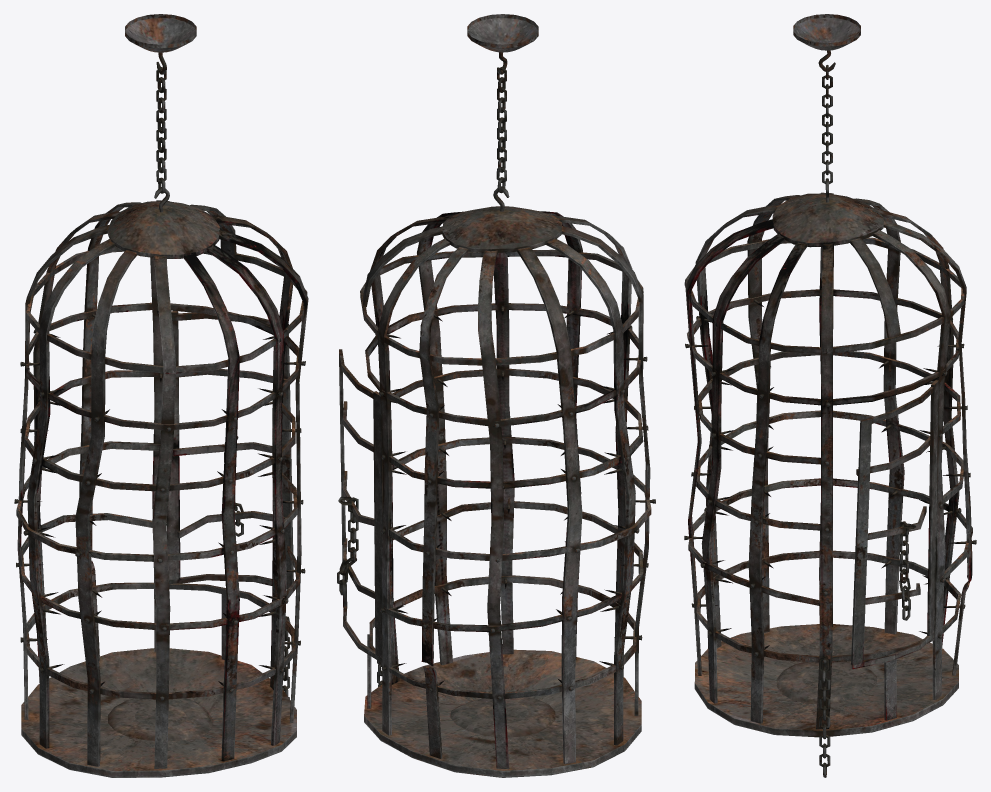
The model's file is cage.glb.
3 renders of one model, left to right at view 1: azimuth 30°, elevation 25°; view 2: azimuth 150°, elevation 25°; view 3: azimuth 270°, elevation 25°, orthographic. The views are drawn at different scales.
Parts seen in each view (by area): view 1: cage; view 2: cage; view 3: cage.
Boxes of the visible parts, bbox=[...] form: cage: bbox=[14, 14, 308, 777]; cage: bbox=[337, 14, 655, 777]; cage: bbox=[684, 14, 976, 777].
Bounding box in the file's own units: 0.8088 × 2 × 0.7649.
1 material, 1 textured.
